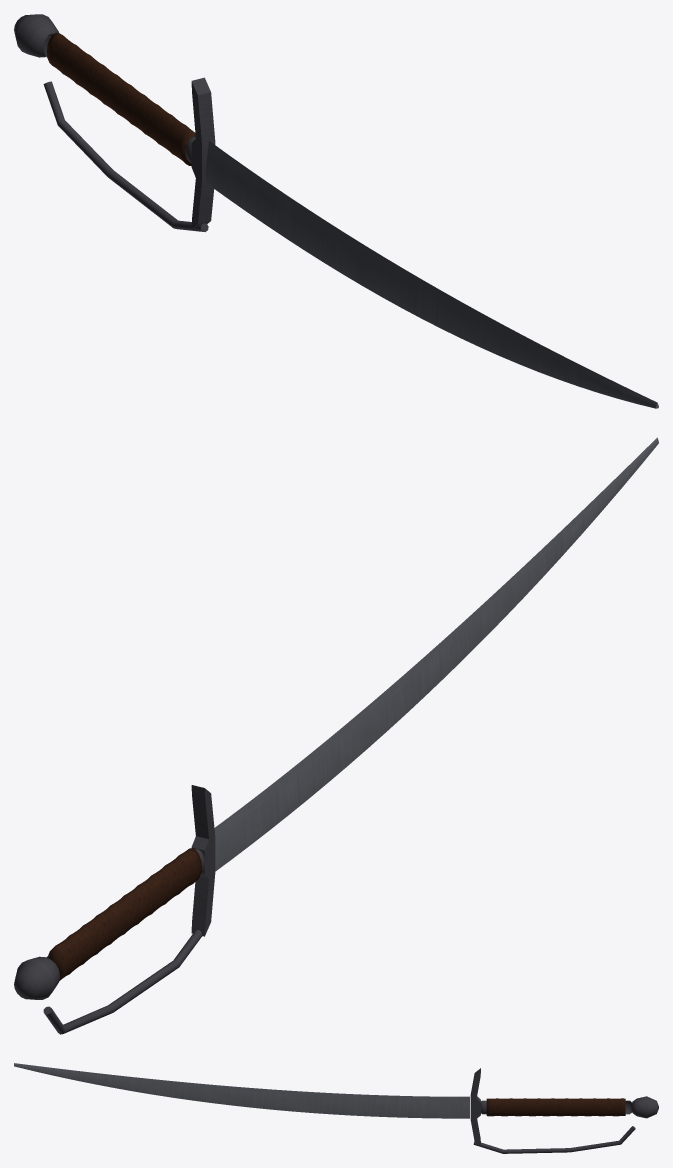
The model's file is weapon_ash_saber.glb.
The picture shows the model from 3 angles, top to bottom: view 1: azimuth 30°, elevation 25°; view 2: azimuth 150°, elevation 25°; view 3: azimuth 270°, elevation 25°; orthographic projection. The views are drawn at different scales.
Parts seen in each view (by area): view 1: ash_saber; view 2: ash_saber; view 3: ash_saber.
Part boxes in pixels (<box>): ash_saber: <box>14,14,658,408</box>; ash_saber: <box>14,437,658,1034</box>; ash_saber: <box>14,1063,658,1153</box>.
Size of the model in its own units: 0.04 by 0.1802 by 1.16.
3 materials, 3 textured.
